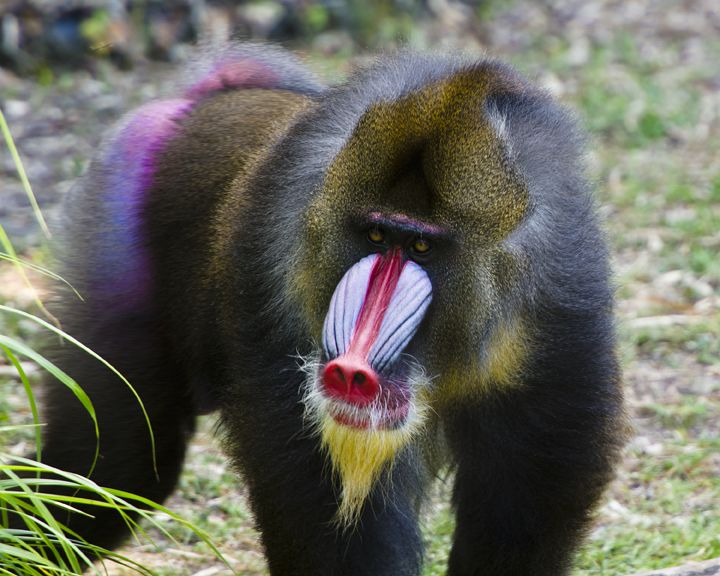Mandrill: (61, 49, 618, 560)
